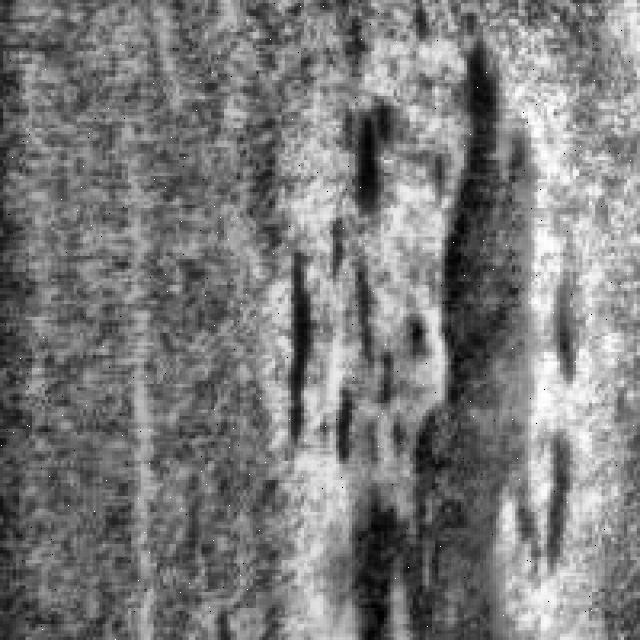Patches: (320, 29, 586, 630), (298, 211, 436, 464), (330, 90, 410, 220)
